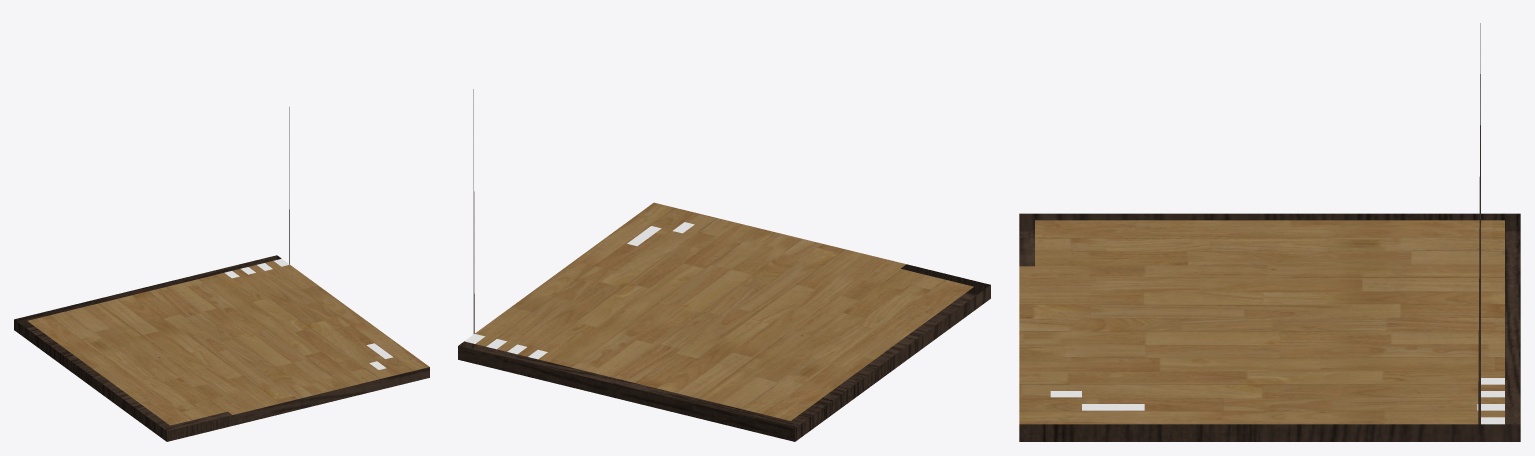
The model's file is BaseS3.obj.
3 renders of one model, left to right at view 1: azimuth 30°, elevation 25°; view 2: azimuth 150°, elevation 25°; view 3: azimuth 270°, elevation 25°, orthographic. The views are drawn at different scales.
Visible parts, largest first — view 1: BaseS3; view 2: BaseS3; view 3: BaseS3.
Part boxes in pixels (x1=…): BaseS3: x1=14, y1=107, x2=429, y2=441; BaseS3: x1=458, y1=89, x2=990, y2=441; BaseS3: x1=1019, y1=23, x2=1520, y2=441.
Size of the model in its own units: 15.8 by 14.98 by 15.9.
Materials: 3 (3 with a texture image).
